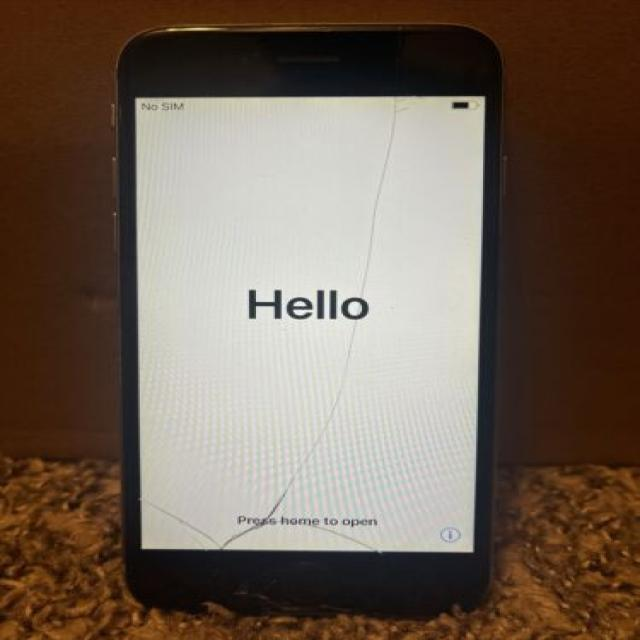Crack: (124, 492, 440, 603)
